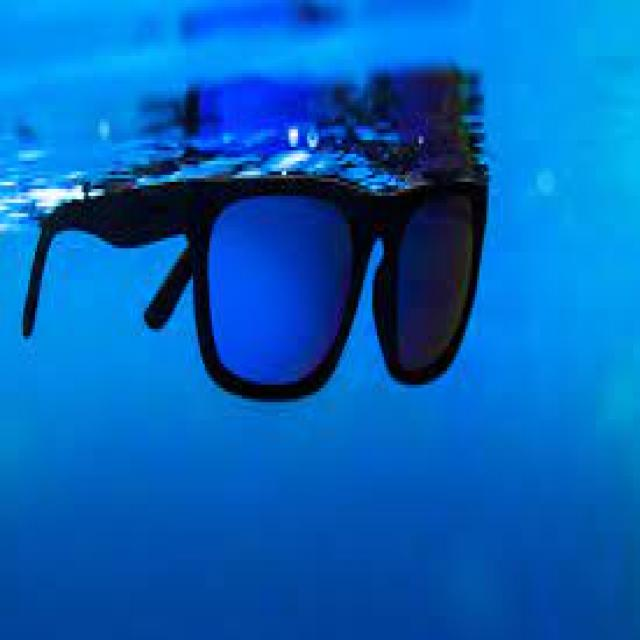suspicious-objects: (142, 152, 491, 401)
